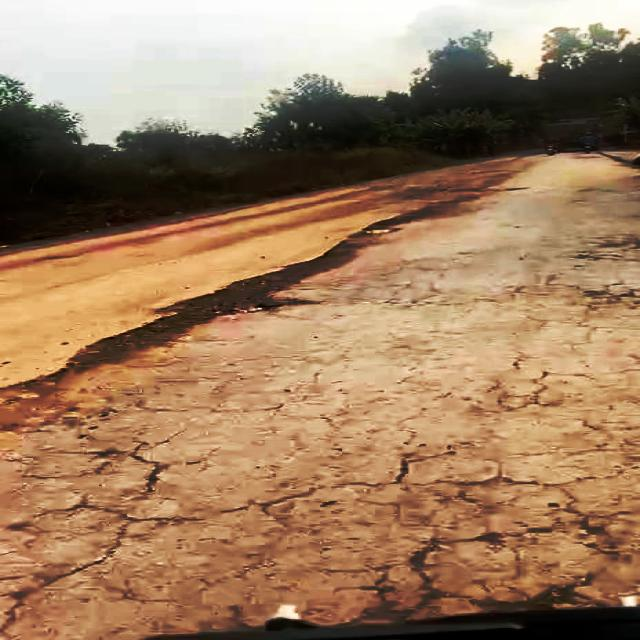pothole: (160, 266, 343, 330)
